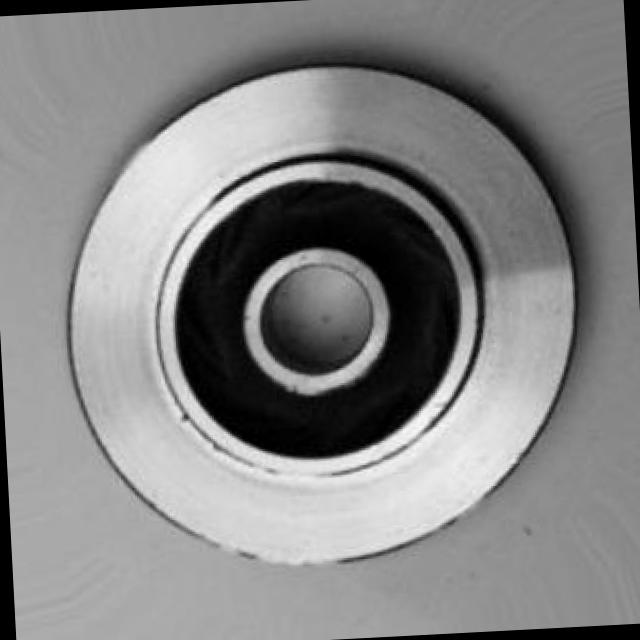Defect: (168, 408, 202, 430)
